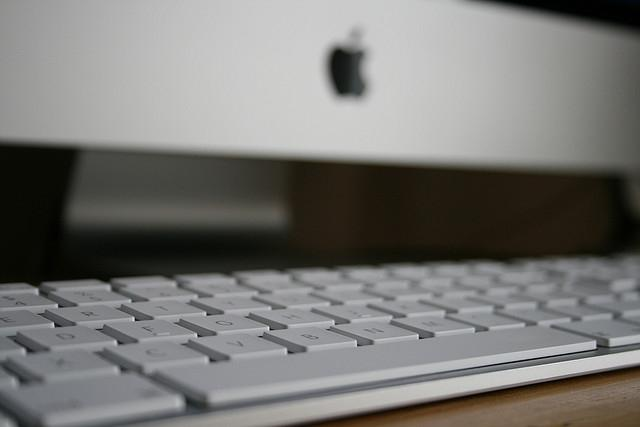apple: (327, 22, 367, 96)
